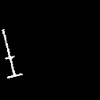double_crochet: (2, 30, 21, 77)
